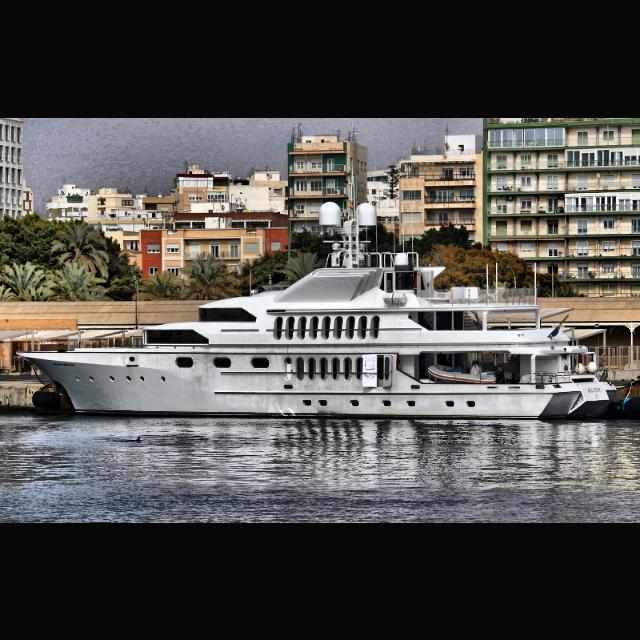yacht: (15, 198, 619, 416)
